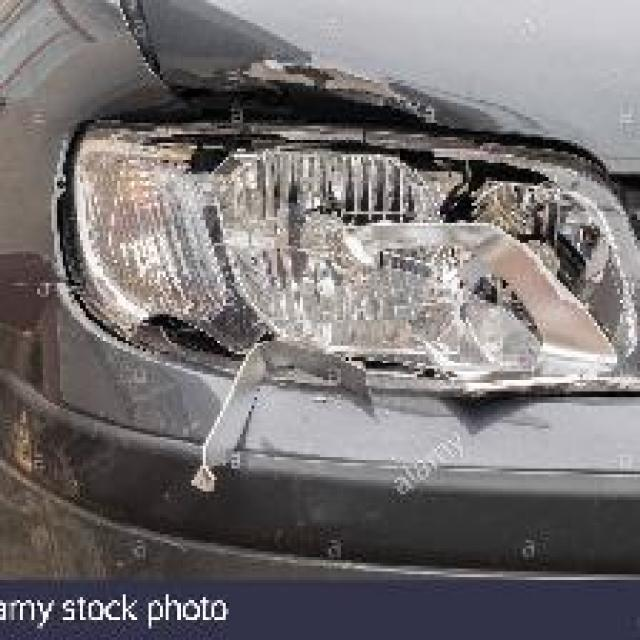damaged: (72, 57, 638, 506)
